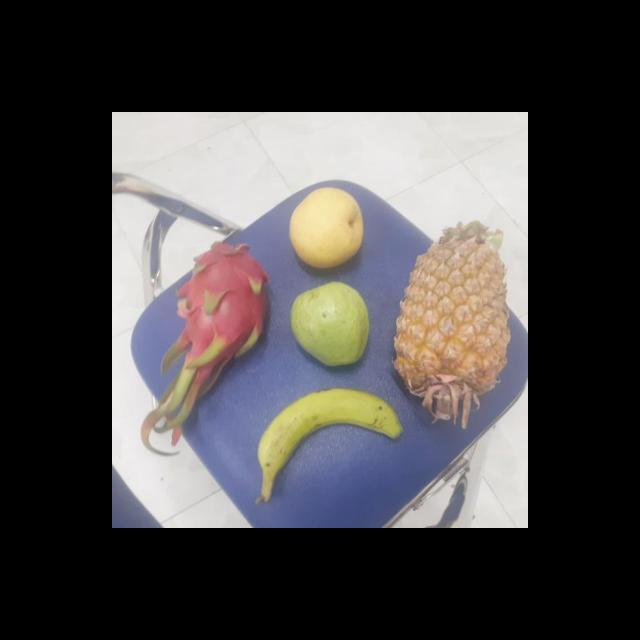banana: (250, 387, 394, 485)
guava: (287, 284, 370, 366)
pear: (286, 188, 366, 270)
pineapple: (396, 226, 510, 418)
pitaya: (175, 240, 272, 360)
